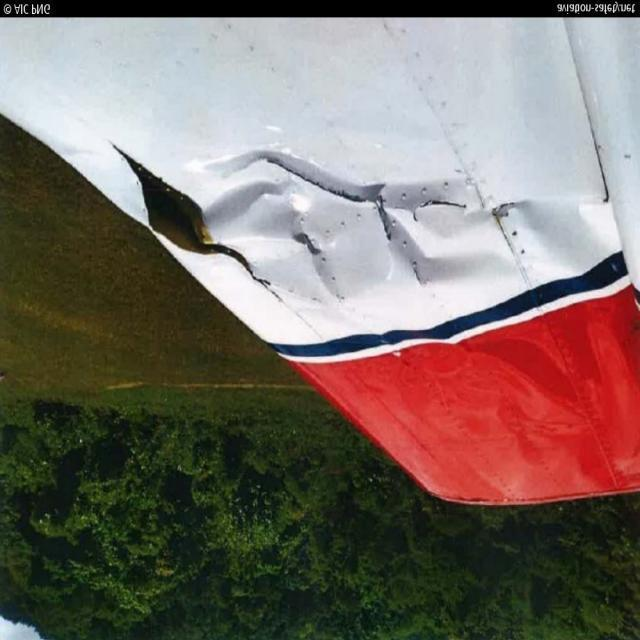crack: (273, 163, 376, 219), (411, 186, 488, 220), (365, 191, 400, 233)
